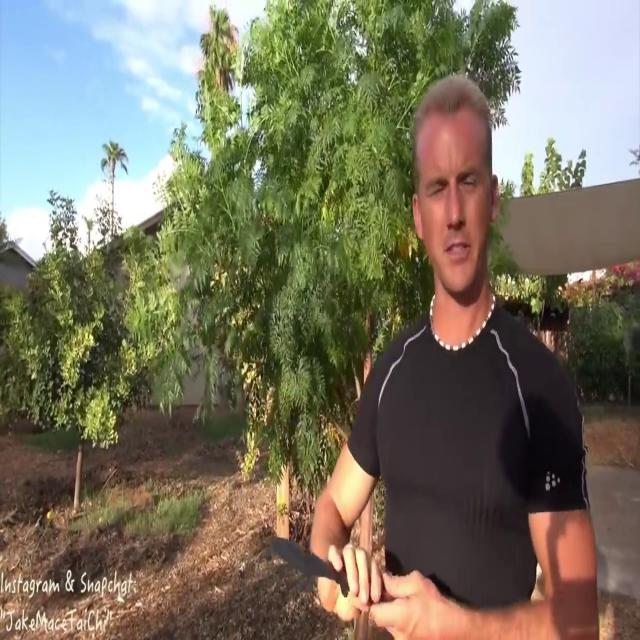knife: (260, 523, 348, 594)
